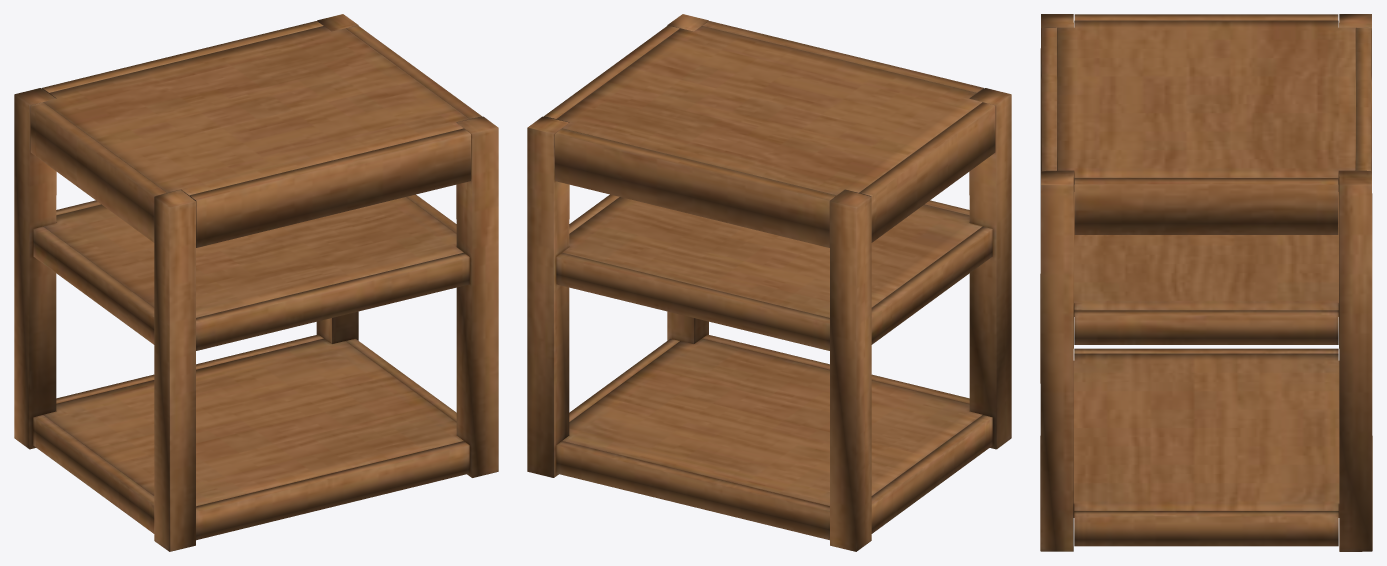
The model's file is side_table_01.glb.
3 views of the same model, side by side, from view 1: azimuth 30°, elevation 25°; view 2: azimuth 150°, elevation 25°; view 3: azimuth 270°, elevation 25° (orthographic). The views are drawn at different scales.
Visible parts, largest first — view 1: side_table_01; view 2: side_table_01; view 3: side_table_01.
Boxes of the visible parts, <box> form: side_table_01: <box>14,14,498,551</box>; side_table_01: <box>527,14,1011,551</box>; side_table_01: <box>1040,14,1372,551</box>.
Bounding box in the file's own units: 0.55 × 0.5507 × 0.45.
1 material, 1 textured.
